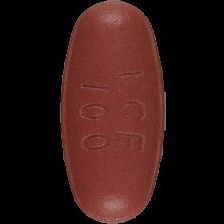0078-0408: (0, 0, 224, 224)
